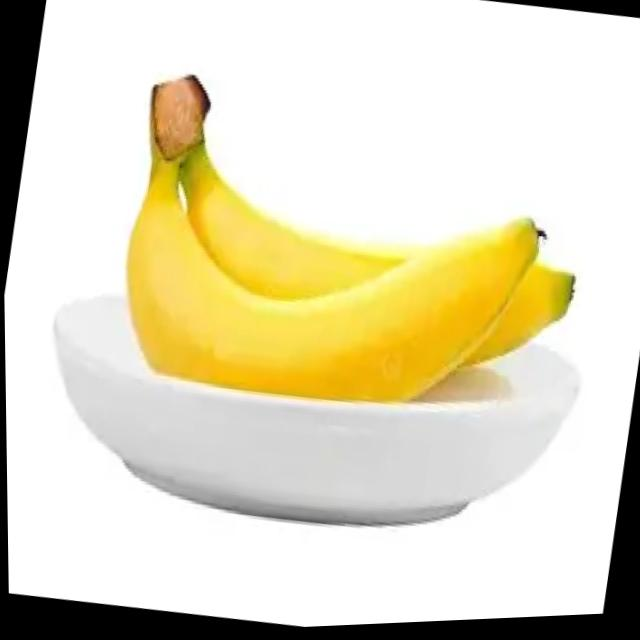BANANA: (124, 73, 577, 406)
